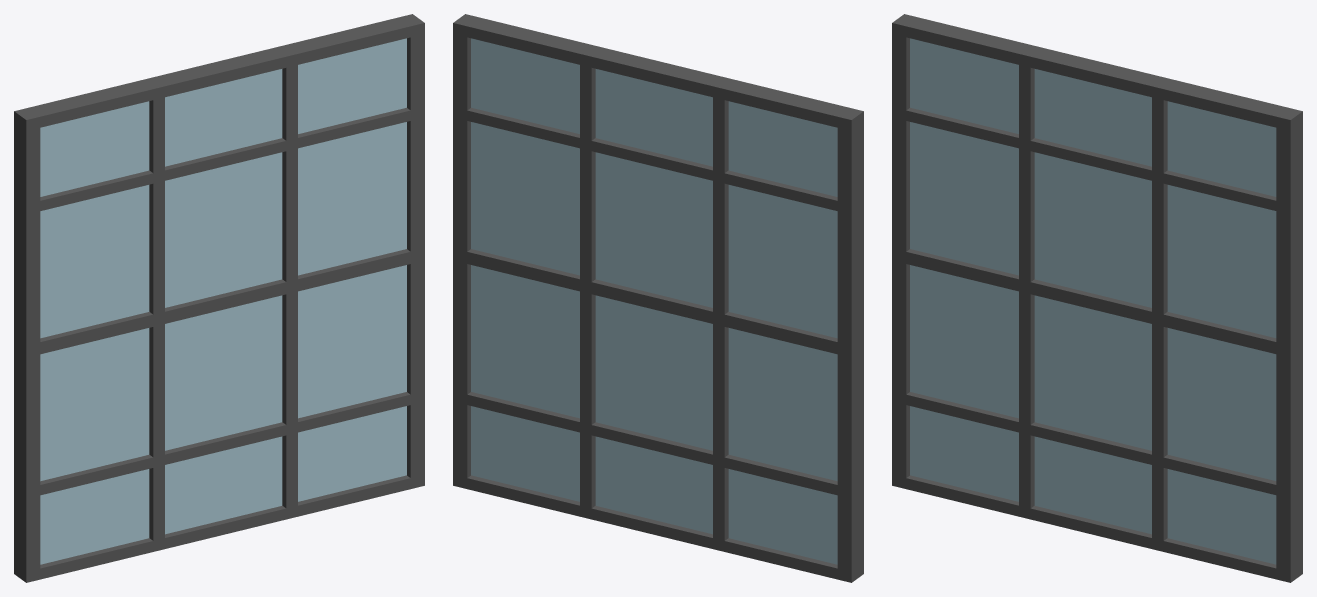
The model's file is Window_29.fbx.
3 renders of one model, left to right at view 1: azimuth 30°, elevation 25°; view 2: azimuth 150°, elevation 25°; view 3: azimuth 330°, elevation 25°, orthographic.
Parts seen in each view (by area): view 1: Window_29; view 2: Window_29; view 3: Window_29.
Part boxes in pixels (left/top/right/bottom): Window_29: left=14, top=14, right=424, bottom=582; Window_29: left=453, top=14, right=863, bottom=582; Window_29: left=892, top=14, right=1302, bottom=582.
Size of the model in its own units: 243 by 12.91 by 270.
